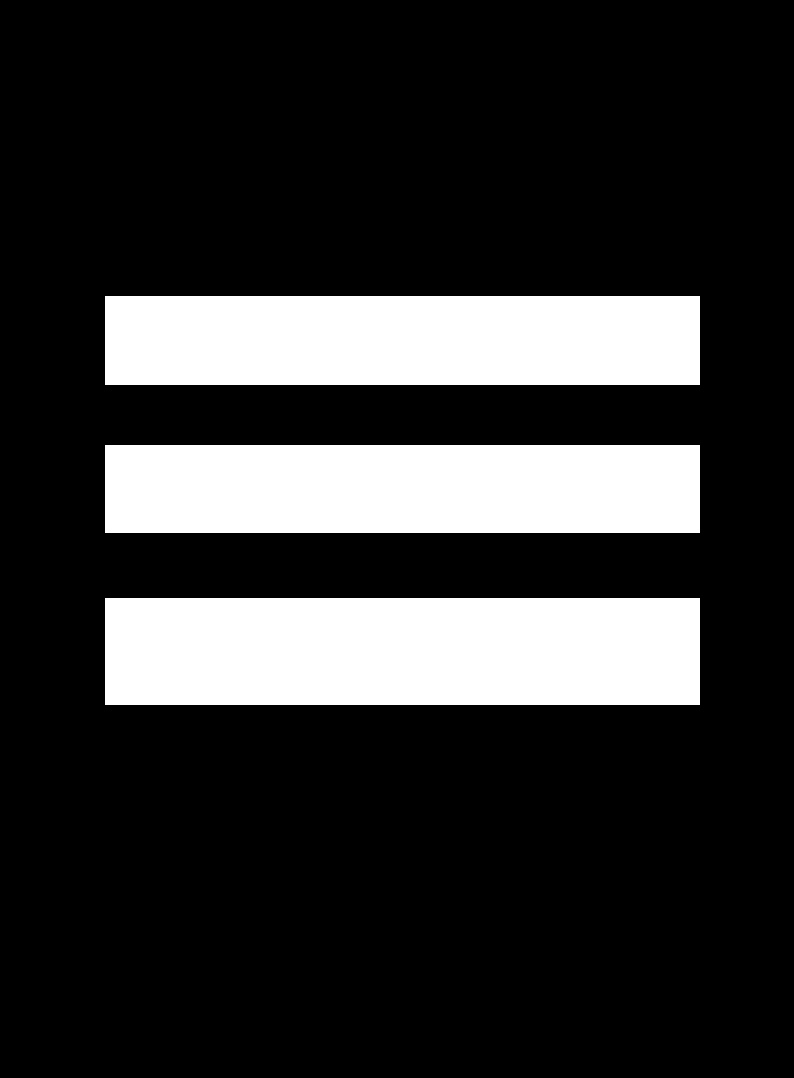table: (105, 598, 699, 704), (105, 296, 699, 384), (105, 445, 699, 532)
